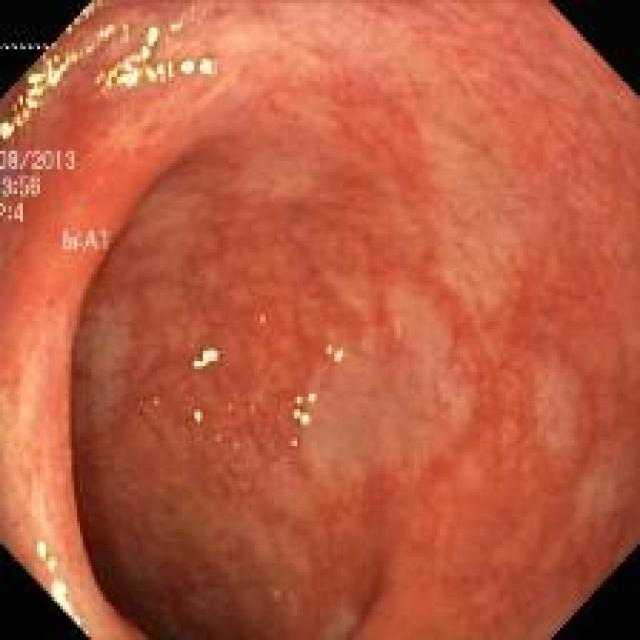ulcerative-colitis-grade-1: (72, 89, 638, 637)
